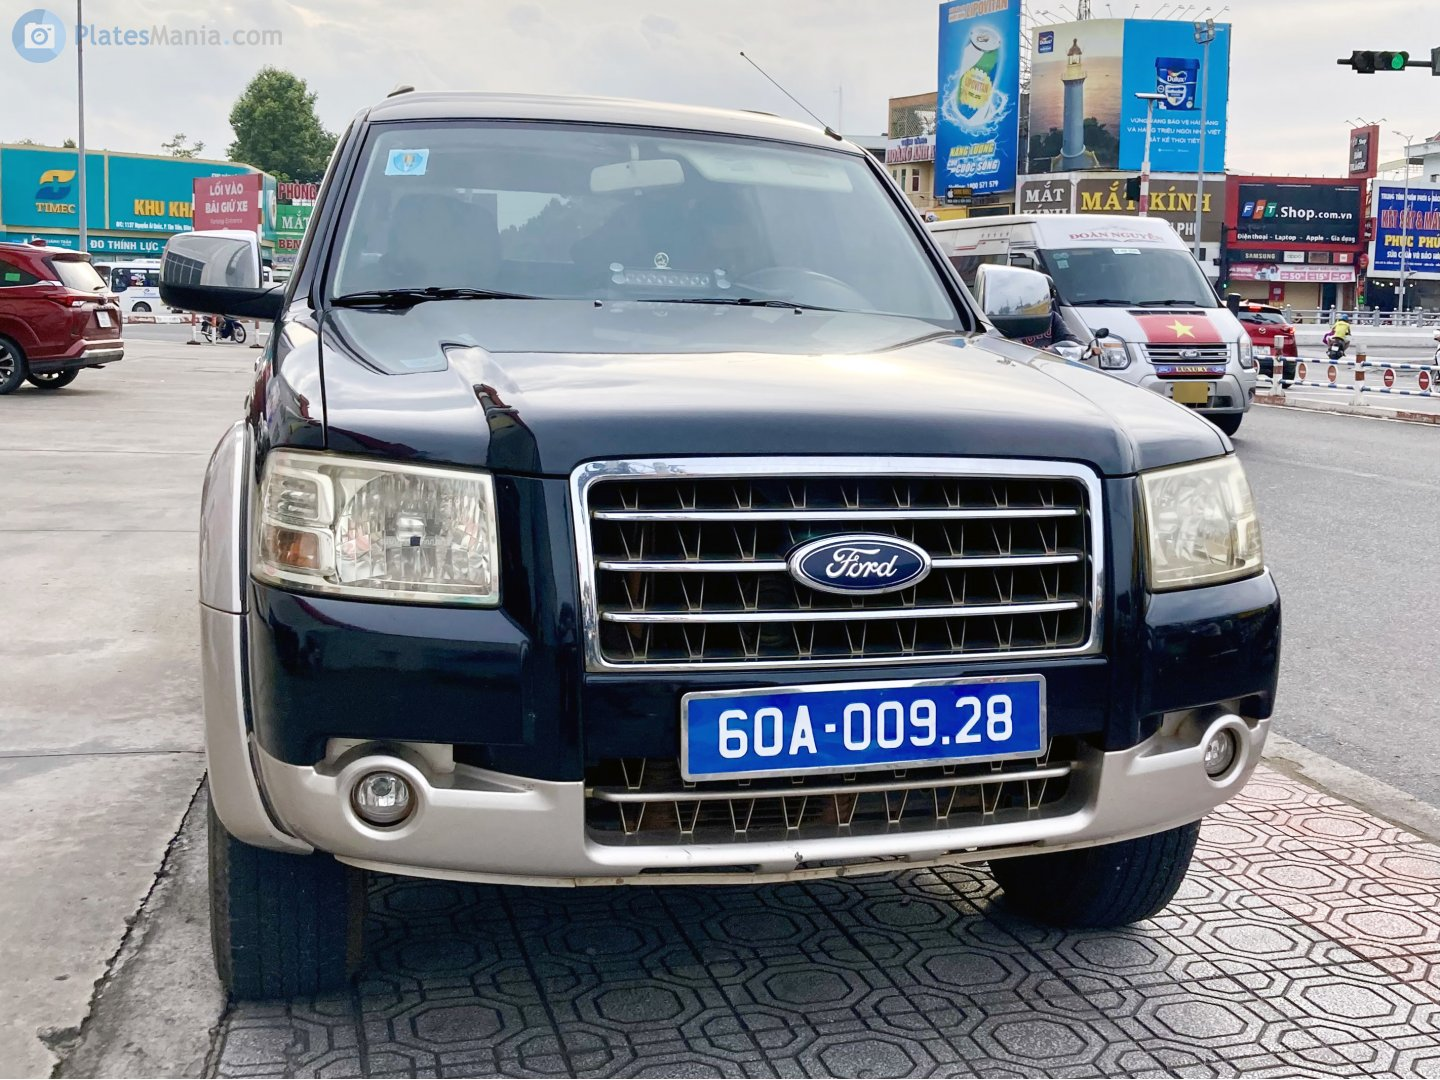bien_so: (682, 679, 1046, 779)
